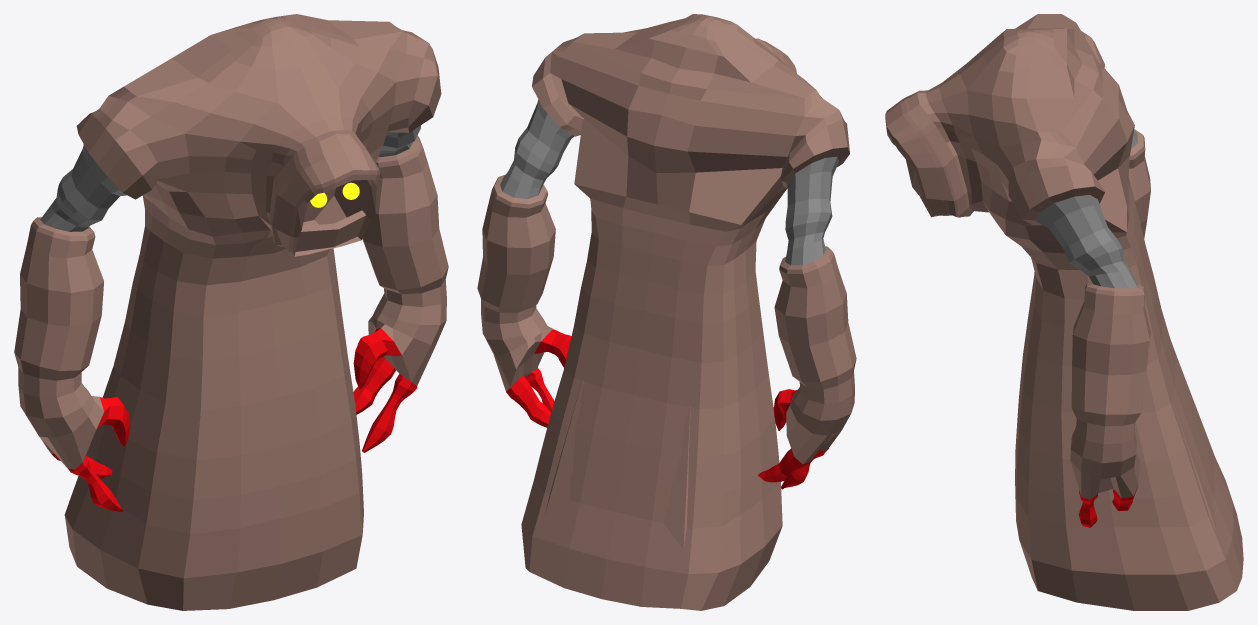
File: EM_Spectre.fbx
3 renders of one model, left to right at view 1: azimuth 30°, elevation 25°; view 2: azimuth 150°, elevation 25°; view 3: azimuth 270°, elevation 25°, orthographic. The views are drawn at different scales.
Parts seen in each view (by area): view 1: Cube.002; view 2: Cube.002; view 3: Cube.002.
Part boxes in pixels (x1,y1,x2,y2): Cube.002: (14,14,448,610); Cube.002: (477,14,856,610); Cube.002: (885,14,1243,610).
Size of the model in its own units: 277 by 363 by 222.
